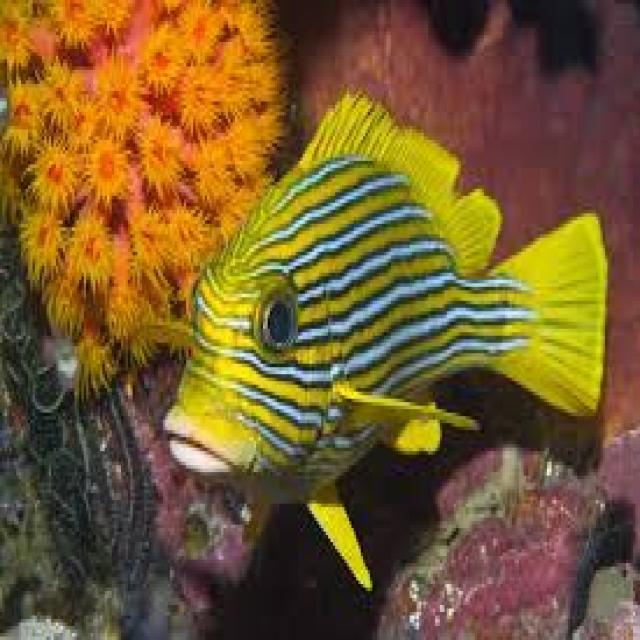RibbonedSweetlips: (160, 91, 608, 590)
